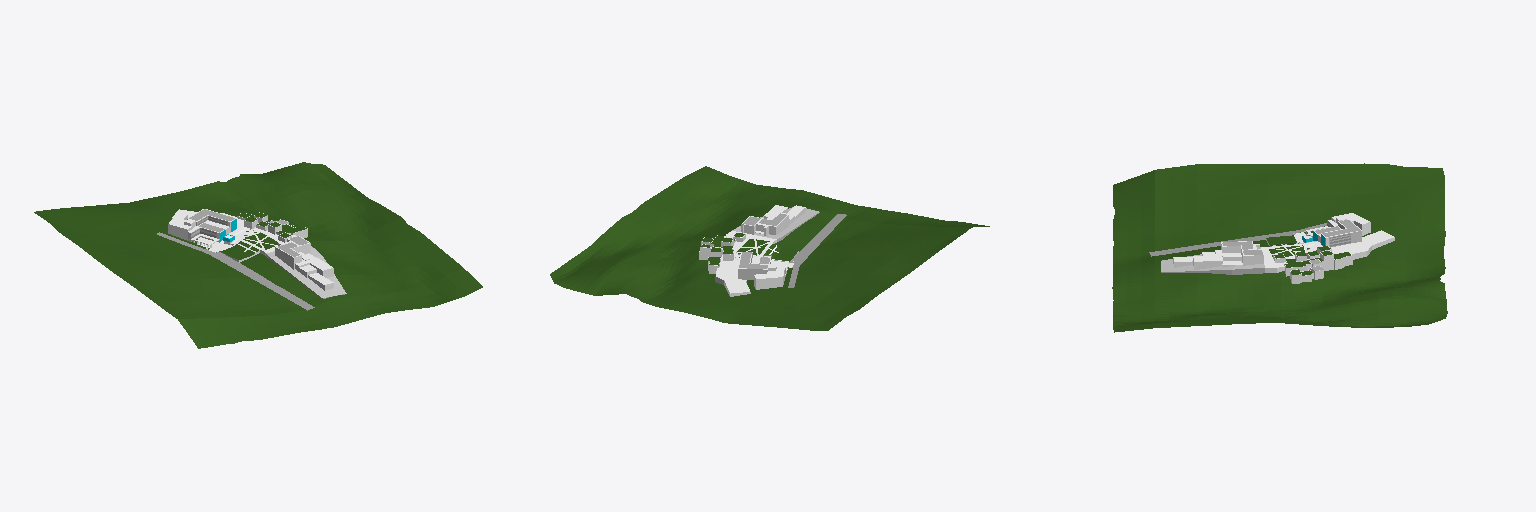
File: OZUSurroundings.obj
The picture shows the model from 3 angles: view 1: azimuth 30°, elevation 25°; view 2: azimuth 150°, elevation 25°; view 3: azimuth 270°, elevation 25°; orthographic projection.
Parts seen in each view (by area): view 1: OZUSurroundings__Ground, OZUSurroundings__BuildingCluster_NE, OZUSurroundings__BuildingCluster_NW__Shapes, MainBuilding__Shapes, OZUSurroundings__BuildingCluster_NE__Shapes, Building_cluster_02, OZUSurroundings__Ground__Ground; view 2: OZUSurroundings__Ground, OZUSurroundings__BuildingCluster_NE, OZUSurroundings__BuildingCluster_NW__Shapes, MainBuilding__Shapes, OZUSurroundings__BuildingCluster_NE__Shapes; view 3: OZUSurroundings__Ground, OZUSurroundings__BuildingCluster_NE, MainBuilding__Shapes, OZUSurroundings__BuildingCluster_NE__Shapes, OZUSurroundings__BuildingCluster_NW__Shapes, Building_cluster_02.
Part boxes in pixels (x1,y1,x2,y2): OZUSurroundings__Ground: (34, 162, 482, 348); OZUSurroundings__BuildingCluster_NE: (157, 209, 314, 310); OZUSurroundings__BuildingCluster_NW__Shapes: (168, 209, 236, 247); MainBuilding__Shapes: (275, 236, 333, 290); OZUSurroundings__BuildingCluster_NE__Shapes: (237, 212, 307, 242); Building_cluster_02: (266, 246, 346, 298); OZUSurroundings__Ground__Ground: (219, 233, 277, 262); OZUSurroundings__Ground: (550, 166, 989, 330); OZUSurroundings__BuildingCluster_NE: (715, 214, 846, 296); OZUSurroundings__BuildingCluster_NW__Shapes: (738, 252, 787, 289); MainBuilding__Shapes: (737, 205, 805, 236); OZUSurroundings__BuildingCluster_NE__Shapes: (699, 232, 745, 273); OZUSurroundings__Ground: (1112, 163, 1447, 332); OZUSurroundings__BuildingCluster_NE: (1149, 223, 1394, 272); MainBuilding__Shapes: (1173, 241, 1263, 270); OZUSurroundings__BuildingCluster_NE__Shapes: (1273, 246, 1352, 283); OZUSurroundings__BuildingCluster_NW__Shapes: (1302, 213, 1370, 247); Building_cluster_02: (1161, 247, 1264, 274).
Size of the model in its own units: 515 by 73.06 by 514.